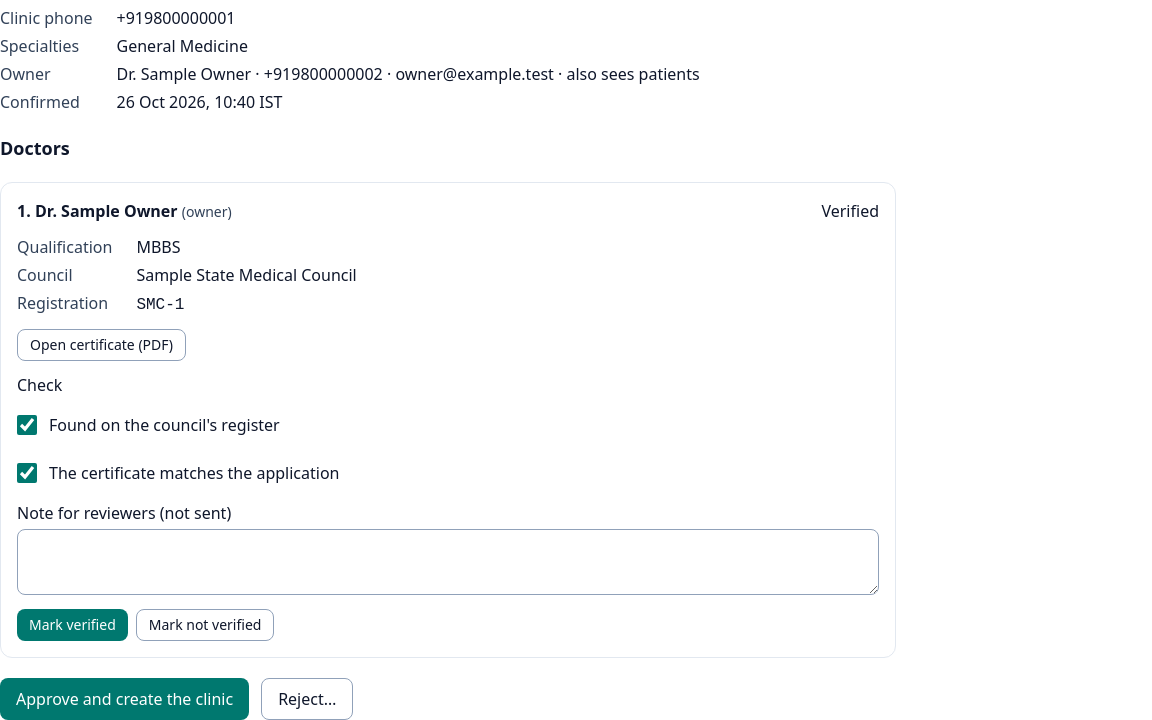
Scenario: reviewing an application (M6c-P2, P3; clinic-onboarding R26-R44) › shows a taken slug against its field and keeps the dialog open
The width and height of the screenshot is (1152, 720).
(page scrolled)
Step 1. Click the button "Approve and create the clinic" → (125,699), box [0, 678, 249, 719]
(page scrolled)
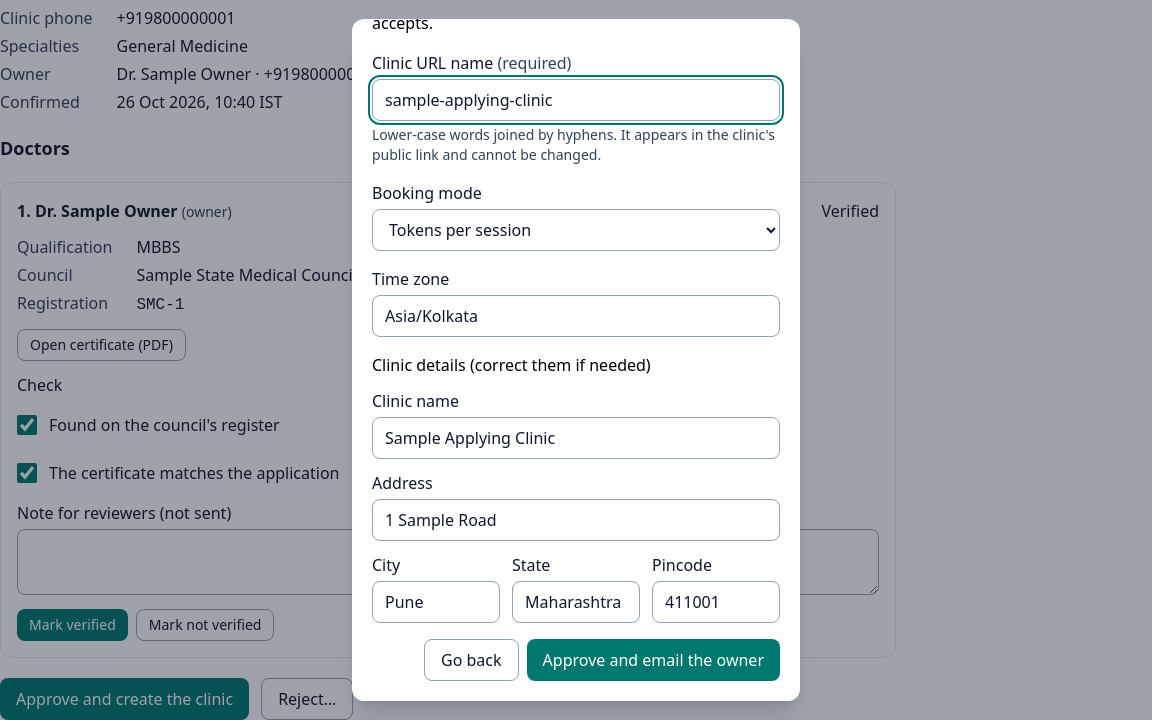
Step 2. Click the button "Approve and email the owner" → (653,660), box [527, 639, 780, 681]
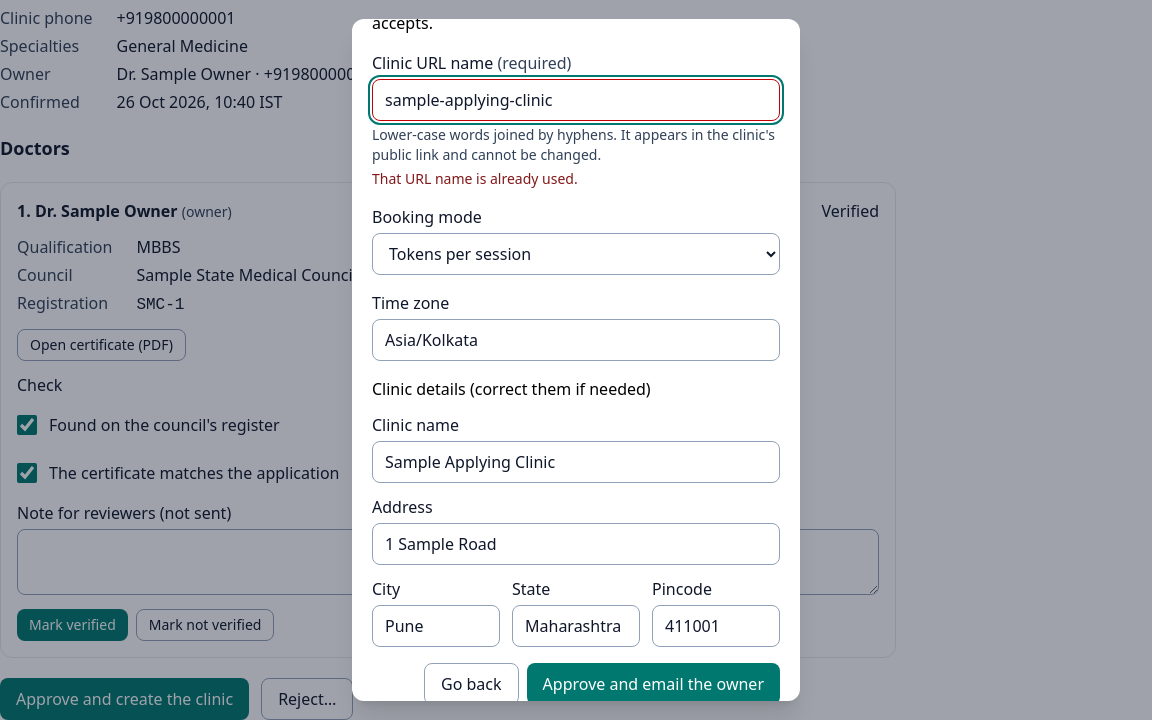
Expected: the text "That URL name is already used." is shown, [372, 169, 578, 188]
